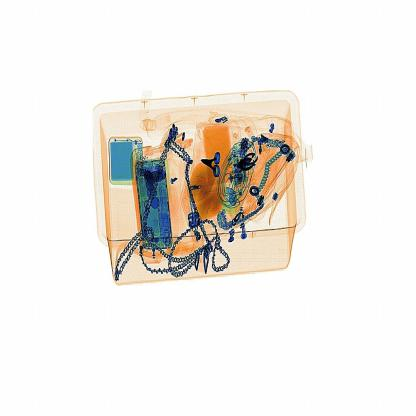gun: (194, 148, 229, 186)
